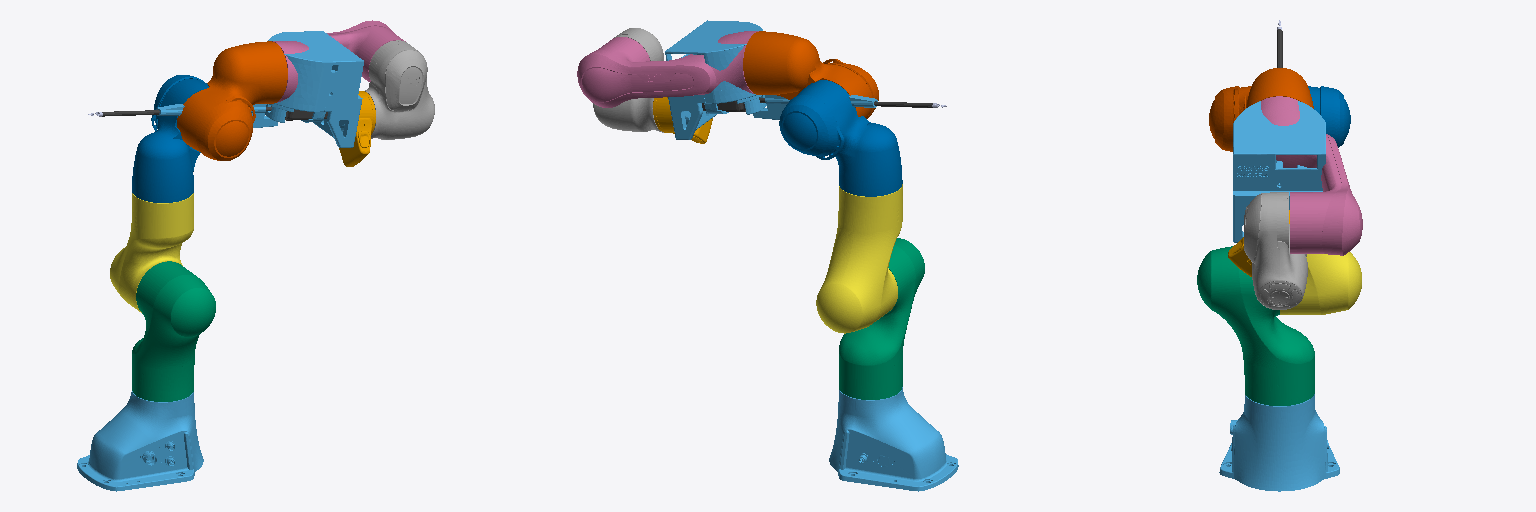
robot.urdf — franka_lnd:
<?xml version="1.0" encoding="utf-8"?>
<!-- ======================================================================= -->
<!-- Copyright 2024 MedCVR Lab                                               -->
<!-- ======================================================================= -->
<!-- This file contains the description of the Franka robot with LND tool.   -->
<!-- Adapted from the publicly available Franka URDF.                        -->
<!-- Franka + LND400006 Tool -->

<!-- ================= -->
<!--       Joints      -->
<!-- ================= -->
<robot name="franka_lnd">

  <joint name="world_base_joint" type="fixed">
    <parent link="world"/>
    <child link="panda_link0"/>
    <origin rpy="0 0 0" xyz="0 0 0"/>
  </joint>

  <joint name="panda_joint1" type="revolute">
    <safety_controller k_position="100.0" k_velocity="40.0" soft_lower_limit="-2.8973" soft_upper_limit="2.8973"/>
    <origin rpy="0 0 0" xyz="0 0 0.333"/>
    <parent link="panda_link0"/>
    <child link="panda_link1"/>
    <axis xyz="0 0 1"/>
    <limit acceleration="15" effort="87" lower="-2.9671" upper="2.9671" velocity="2.5"/>
    <dynamics D="1" K="7000" damping="0.003" friction="0.0" mu_coulomb="0" mu_viscous="16"/>
  </joint>

  <joint name="panda_joint2" type="revolute">
    <safety_controller k_position="100.0" k_velocity="40.0" soft_lower_limit="-1.7628" soft_upper_limit="1.7628"/>
    <origin rpy="-1.5707963267948966 0 0" xyz="0 0 0"/>
    <parent link="panda_link1"/>
    <child link="panda_link2"/>
    <axis xyz="0 0 1"/>
    <limit acceleration="7.5" effort="87" lower="-1.8326" upper="1.8326" velocity="2.5"/>
    <dynamics D="1" K="7000" damping="0.003" friction="0.0" mu_coulomb="0" mu_viscous="16"/>
  </joint>

  <joint name="panda_joint3" type="revolute">
    <safety_controller k_position="100.0" k_velocity="40.0" soft_lower_limit="-2.8973" soft_upper_limit="2.8973"/>
    <origin rpy="1.5707963267948966 0 0" xyz="0 -0.316 0"/>
    <parent link="panda_link2"/>
    <child link="panda_link3"/>
    <axis xyz="0 0 1"/>
    <limit acceleration="12.5" effort="87" lower="-2.9671" upper="2.9671" velocity="2.5"/>
    <dynamics D="1" K="7000" damping="0.003" friction="0.0" mu_coulomb="0" mu_viscous="16"/>
  </joint>

  <joint name="panda_joint4" type="revolute">
    <safety_controller k_position="100.0" k_velocity="40.0" soft_lower_limit="-3.0718" soft_upper_limit="-0.0698"/>
    <origin rpy="1.5707963267948966 0 0" xyz="0.0825 0 0"/>
    <parent link="panda_link3"/>
    <child link="panda_link4"/>
    <axis xyz="0 0 1"/>
    <limit acceleration="12.5" effort="87" lower="-3.1416" upper="-0.4" velocity="2.5"/>
    <dynamics D="1" K="7000" damping="0.003" friction="0.0" mu_coulomb="0" mu_viscous="16"/>
  </joint>

  <joint name="panda_joint5" type="revolute">
    <safety_controller k_position="100.0" k_velocity="40.0" soft_lower_limit="-2.8973" soft_upper_limit="2.8973"/>
    <origin rpy="-1.5707963267948966 0 0" xyz="-0.0825 0.384 0"/>
    <parent link="panda_link4"/>
    <child link="panda_link5"/>
    <axis xyz="0 0 1"/>
    <limit acceleration="15" effort="12" lower="-2.9671" upper="2.9671" velocity="3"/>
    <dynamics D="1" K="7000" damping="0.003" friction="0.0" mu_coulomb="0" mu_viscous="16"/>
  </joint>

  <joint name="panda_joint6" type="revolute">
    <safety_controller k_position="100.0" k_velocity="40.0" soft_lower_limit="-0.0175" soft_upper_limit="3.7525"/>
    <origin rpy="1.5707963267948966 0 0" xyz="0 0 0"/>
    <parent link="panda_link5"/>
    <child link="panda_link6"/>
    <axis xyz="0 0 1"/>
    <limit acceleration="20" effort="12" lower="-0.0873" upper="3.8223" velocity="3"/>
    <dynamics D="1" K="7000" damping="0.003" friction="0.0" mu_coulomb="0" mu_viscous="16"/>
  </joint>

  <joint name="panda_joint7" type="revolute">
    <safety_controller k_position="100.0" k_velocity="40.0" soft_lower_limit="-2.8973" soft_upper_limit="2.8973"/>
    <origin rpy="1.5707963267948966 0 0" xyz="0.088 0 0"/>
    <parent link="panda_link6"/>
    <child link="panda_link7"/>
    <axis xyz="0 0 1"/>
    <limit acceleration="20" effort="12" lower="-2.9671" upper="2.9671" velocity="3"/>
    <dynamics D="1" K="7000" damping="0.003" friction="0.0" mu_coulomb="0" mu_viscous="16"/>
  </joint>

  <joint name="franka_mount_joint" type="fixed">
    <origin rpy="0 0 3.14159" xyz="-0.0188 0 0.1915"/>
    <parent link="panda_link7"/>
    <child link="tool_mount_link"/>
  </joint>

  <joint name="tool_mount_joint" type="fixed">
    <origin rpy="0 0 0" xyz="0 0 0"/>
    <parent link="tool_mount_link"/>
    <child link="main_insertion_link"/>
  </joint>

  <joint name="tool_roll" type="revolute">
    <origin rpy="0 0 0" xyz="0 0 0.4162"/>
    <parent link="main_insertion_link"/>
    <child link="tool_roll_link"/>
    <axis xyz="0 0 1"/>
    <limit effort="1000" lower="-3.14159" upper="3.14159" velocity="10"/>
  </joint>

  <joint name="tool_pitch" type="revolute">
    <origin rpy="1.5708 -1.5708 0" xyz="0 0 0"/>
    <parent link="tool_roll_link"/>
    <child link="tool_pitch_link"/>
    <axis xyz="0 0 1"/>
    <limit effort="1000" lower="-1.5708" upper="1.5708" velocity="10"/>
  </joint>

  <joint name="tool_yaw" type="revolute">
    <origin rpy="-1.5708 1.5708 0" xyz="0.0091 0 0"/>
    <parent link="tool_pitch_link"/>
    <child link="tool_yaw_link"/>
    <axis xyz="0 0 1"/>
    <limit effort="1000" lower="-1.5708" upper="1.5708" velocity="10"/>
  </joint>

  <joint name="tool_gripper1_joint" type="revolute">
    <origin rpy="0 0 0" xyz="0 0 0"/>
    <parent link="tool_yaw_link"/>
    <child link="tool_gripper1_link"/>
    <axis xyz="0 0 1"/>
    <mimic joint="jaw" multiplier="-1" offset="0"/>
    <limit effort="0" lower="-1" upper="0" velocity="0"/>
  </joint>

  <joint name="jaw" type="revolute">
    <origin rpy="0 0 0" xyz="0 0 0"/>
    <parent link="tool_yaw_link"/>
    <child link="tool_gripper2_link"/>
    <axis xyz="0 0 1"/>
    <limit effort="0" lower="0" upper="1" velocity="0"/>
  </joint>

  <joint name="tool_tip_joint" type="fixed">
    <origin rpy="1.5708 1.5708 0" xyz="0 -0.0102 0"/>
    <parent link="tool_yaw_link"/>
    <child link="tool_tip"/>
  </joint>

  <!-- ================= -->
  <!--       Links       -->
  <!-- ================= -->

  <link name="world"/>

  <link name="panda_link0">
    <visual>
      <origin rpy="0 0 0" xyz="0 0 0"/>
      <geometry>
        <mesh filename="package://meshes/dae/link0.obj"/>
      </geometry>
    </visual>
    <inertial>
      <!-- Estimated guesses from CAD -->
      <origin rpy="0 0 0" xyz="-0.041018 -0.00014 0.049974"/>
      <mass value="0.629769"/>
      <inertia ixx="0.00315" ixy="8.2904E-07" ixz="0.00015" iyy="0.00388" iyz="8.2299E-06" izz="0.004285"/>
    </inertial>
  </link>
  <link name="panda_link1">
    <visual>
      <origin rpy="0 0 0" xyz="0 0 0"/>
      <geometry>
        <mesh filename="package://meshes/dae/link1.obj"/>
      </geometry>
    </visual>
    <inertial>
      <origin rpy="0 0 0" xyz="0.003875 0.002081 -0.04762"/>
      <mass value="4.970684"/>
      <inertia ixx="0.70337" ixy="-0.00013900" ixz="0.0067720" iyy="0.70661" iyz="0.019169" izz="0.0091170"/>
    </inertial>
  </link>

  <link name="panda_link2">
    <visual>
      <origin rpy="0 0 0" xyz="0 0 0"/>
      <geometry>
        <mesh filename="package://meshes/dae/link2.obj"/>
      </geometry>
    </visual>
    <inertial>
      <origin rpy="0 0 0" xyz=" -0.003141 -0.02872  0.003495"/>
      <mass value="0.646926"/>
      <inertia ixx="0.0079620" ixy="-3.9250e-3" ixz="1.0254e-02" iyy="2.8110e-02" iyz="7.0400e-04" izz="2.5995e-02"/>
    </inertial>
  </link>

  <link name="panda_link3">
    <visual>
      <origin rpy="0 0 0" xyz="0 0 0"/>
      <geometry>
        <mesh filename="package://meshes/dae/link3.obj"/>
      </geometry>
    </visual>
    <inertial>
      <origin rpy="0 0 0" xyz="2.7518e-02 3.9252e-02 -6.6502e-02"/>
      <mass value="3.228604"/>
      <inertia ixx="3.7242e-02" ixy="-4.7610e-03" ixz="-1.1396e-02" iyy="3.6155e-02" iyz="-1.2805e-02" izz="1.0830e-02"/>
    </inertial>
  </link>

  <link name="panda_link4">
    <visual>
      <origin rpy="0 0 0" xyz="0 0 0"/>
      <geometry>
        <mesh filename="package://meshes/dae/link4.obj"/>
      </geometry>
    </visual>
    <inertial>
      <origin rpy="0 0 0" xyz="-5.317e-02 1.04419e-01 2.7454e-02"/>
      <mass value="3.587895"/>
      <inertia ixx="2.5853e-02" ixy="7.7960e-03" ixz="-1.3320e-03" iyy="1.9552e-02" iyz="8.6410e-03" izz="2.8323e-02"/>
    </inertial>
  </link>

  <link name="panda_link5">
    <visual>
      <origin rpy="0 0 0" xyz="0 0 0"/>
      <geometry>
        <mesh filename="package://meshes/dae/link5.obj"/>
      </geometry>
    </visual>
    <inertial>
      <origin rpy="0 0 0" xyz="-1.1953e-02 4.1065e-02 -3.8437e-02"/>
      <mass value="1.225946"/>
      <inertia ixx="3.5549e-02" ixy="-2.1170e-03" ixz="-4.0370e-03" iyy="2.9474e-02" iyz="2.2900e-04" izz="8.6270e-03"/>
    </inertial>
  </link>

  <link name="panda_link6">
    <visual>
      <origin rpy="0 0 0" xyz="0 0 0"/>
      <geometry>
        <mesh filename="package://meshes/dae/link6.obj"/>
      </geometry>
    </visual>
    <inertial>
      <origin rpy="0 0 0" xyz="6.0149e-02 -1.4117e-02 -1.0517e-02"/>
      <mass value="1.666555"/>
      <inertia ixx="1.9640e-03" ixy="1.0900e-04" ixz="-1.1580e-03" iyy="4.3540e-03" iyz="3.4100e-04" izz="5.4330e-03"/>
    </inertial>
  </link>

  <link name="panda_link7">
    <visual>
      <origin rpy="0 0 0" xyz="0 0 0"/>
      <geometry>
        <mesh filename="package://meshes/dae/link7.obj"/>
      </geometry>
    </visual>
    <inertial>
      <origin rpy="0 0 0" xyz="1.0517e-02 -4.252e-03 6.1597e-02"/>
      <mass value="7.35522e-01"/>
      <inertia ixx="1.2516e-02" ixy="-4.2800e-04" ixz="-1.1960e-03" iyy="1.0027e-02" iyz="-7.4100e-04" izz="4.8150e-03"/>
    </inertial>
  </link>

  <link name="tool_mount_link">
    <visual>
      <origin rpy="0 0 0" xyz="0 0 0"/>
      <geometry>
        <mesh filename="package://meshes/obj/franka_tool_mount.obj"/>
      </geometry>
    </visual>
  </link>

  <link name="main_insertion_link">
    <inertial>
      <origin rpy="0 0 0" xyz="0.0040563 -0.00010934 0.0098616"/>
      <mass value="0.22491"/>
      <inertia ixx="0.01" ixy="-0.00001" ixz="0.00001" iyy="0.001" iyz="0.00001" izz="0.001"/>
    </inertial>
    <visual>
      <origin rpy="0 0 0" xyz="0 0 0"/>
      <geometry>
        <mesh filename="package://meshes/obj/tool_main_insertion_link.obj"/>
      </geometry>
      <material name="">
        <color rgba="0.3 0.3 0.3 1.0"/>
      </material>
    </visual>
    <collision name="main_insertion_link_collision_0">
      <origin rpy="0 0 0" xyz="0 0 0"/>
      <geometry>
        <mesh filename="package://meshes/obj/tool_main_insertion_link_collision_0.test.obj"/>
      </geometry>
    </collision>
    <collision name="main_insertion_link_collision_1">
      <origin rpy="0 0 0" xyz="0 0 0"/>
      <geometry>
        <mesh filename="package://meshes/obj/tool_main_insertion_link_collision_1.test.obj"/>
      </geometry>
    </collision>
  </link>

  <link name="tool_roll_link">
    <inertial>
      <origin rpy="0 0 0" xyz="0 0 -0.0058234"/>
      <mass value="0.00033225"/>
      <inertia ixx="0.001" ixy="0.00001" ixz="0.00001" iyy="0.001" iyz="0.00001" izz="0.001"/>
    </inertial>
    <visual>
      <origin rpy="0 0 0" xyz="0 0 0"/>
      <geometry>
        <mesh filename="package://meshes/obj/lnd_roll_link.obj"/>
      </geometry>
      <material name="">
        <color rgba="0.79608 0.82353 0.93725 1"/>
      </material>
    </visual>
    <collision name="tool_roll_link_collision_0">
      <origin rpy="0 0 0" xyz="0 0 0"/>
      <geometry>
        <mesh filename="package://meshes/obj/lnd_roll_link_collision_0.test.obj"/>
      </geometry>
    </collision>
    <collision name="tool_roll_link_collision_1">
      <origin rpy="0 0 0" xyz="0 0 0"/>
      <geometry>
        <mesh filename="package://meshes/obj/lnd_roll_link_collision_1.test.obj"/>
      </geometry>
    </collision>
    <collision name="tool_roll_link_collision_2">
      <origin rpy="0 0 0" xyz="0 0 0"/>
      <geometry>
        <mesh filename="package://meshes/obj/lnd_roll_link_collision_2.test.obj"/>
      </geometry>
    </collision>
  </link>


  <link name="tool_pitch_link">
    <inertial>
      <origin rpy="0 0 0" xyz="0.0035763 0 0"/>
      <mass value="0.00025784"/>
      <inertia ixx="0.001" ixy="0.00001" ixz="0.00001" iyy="0.001" iyz="0.00001" izz="0.001"/>
    </inertial>
    <visual>
      <origin rpy="0 0 0" xyz="0 0 0"/>
      <geometry>
        <mesh filename="package://meshes/obj/lnd_pitch_link.obj"/>
      </geometry>
      <material name="">
        <color rgba="0.79608 0.82353 0.93725 1"/>
      </material>
    </visual>
    <collision name="tool_pitch_link_collision_0">
      <origin rpy="0 0 0" xyz="0 0 0"/>
      <geometry>
        <mesh filename="package://meshes/obj/lnd_pitch_link_collision_0.test.obj"/>
      </geometry>
    </collision>
    <collision name="tool_pitch_link_collision_1">
      <origin rpy="0 0 0" xyz="0 0 0"/>
      <geometry>
        <mesh filename="package://meshes/obj/lnd_pitch_link_collision_1.test.obj"/>
      </geometry>
    </collision>
    <collision name="tool_pitch_link_collision_2">
      <origin rpy="0 0 0" xyz="0 0 0"/>
      <geometry>
        <mesh filename="package://meshes/obj/lnd_pitch_link_collision_2.test.obj"/>
      </geometry>
    </collision>
  </link>

  <link name="tool_yaw_link">
    <inertial>
      <origin rpy="0 0 0" xyz="0 0 0"/>
      <mass value="0.012491"/>
      <inertia ixx="0.001" ixy="0.00001" ixz="0.00001" iyy="0.001" iyz="0.00001" izz="0.001"/>
    </inertial>
    <visual>
      <origin rpy="0 0 0" xyz="0 0 0"/>
      <geometry>
        <mesh filename="package://meshes/obj/lnd_yaw_link.obj"/>
      </geometry>
      <material name="">
        <color rgba="0.79608 0.82353 0.93725 1"/>
      </material>
    </visual>
  </link>

  <link name="tool_gripper1_link">
    <inertial>
      <origin rpy="0 0 0" xyz="0.00019605 0.001435 -0.00088478"/>
      <mass value="0.010491"/>
      <inertia ixx="0.001" ixy="0.00001" ixz="0.00001" iyy="0.001" iyz="0.00001" izz="0.001"/>
    </inertial>
    <visual>
      <origin rpy="0 0 0" xyz="0 0 0"/>
      <geometry>
        <mesh filename="package://meshes/obj/lnd_gripper_link.obj"/>
      </geometry>
      <material name="">
        <color rgba="0.79608 0.82353 0.93725 1"/>
      </material>
    </visual>
    <collision name="tool_gripper1_link_collision_0">
      <origin rpy="0 0 0" xyz="0 0 0"/>
      <geometry>
        <mesh filename="package://meshes/obj/lnd_gripper_link_collision_0.test.obj"/>
      </geometry>
    </collision>
    <collision name="tool_gripper1_link_collision_1">
      <origin rpy="0 0 0" xyz="0 0 0"/>
      <geometry>
        <mesh filename="package://meshes/obj/lnd_gripper_link_collision_1.test.obj"/>
      </geometry>
    </collision>
  </link>

  <link name="tool_gripper2_link">
    <inertial>
      <origin rpy="0 0 0" xyz="-0.00019605 0.001435 0.00088478"/>
      <mass value="0.010491"/>
      <inertia ixx="0.001" ixy="0.00001" ixz="0.00001" iyy="0.001" iyz="0.00001" izz="0.001"/>
    </inertial>
    <visual>
      <origin rpy="0 3.1416 0" xyz="0 0 0"/>
      <geometry>
        <mesh filename="package://meshes/obj/lnd_gripper_link.obj"/>
      </geometry>
      <material name="">
        <color rgba="0.79608 0.82353 0.93725 1"/>
      </material>
    </visual>
    <collision name="tool_gripper2_link_collision_0">
      <origin rpy="0 3.1416 0" xyz="0 0 0"/>
      <geometry>
        <mesh filename="package://meshes/obj/lnd_gripper_link_collision_0.test.obj"/>
      </geometry>
    </collision>
    <collision name="tool_gripper2_link_collision_1">
      <origin rpy="0 3.1416 0" xyz="0 0 0"/>
      <geometry>
        <mesh filename="package://meshes/obj/lnd_gripper_link_collision_1.test.obj"/>
      </geometry>
    </collision>
  </link>

  <link name="tool_tip"/>

  <disable_collision link1="main_insertion_link" link2="tool_roll_link"/>
  <disable_collision link1="tool_roll_link" link2="tool_pitch_link"/>
  <disable_collision link1="tool_pitch_link" link2="tool_gripper1_link"/>
  <disable_collision link1="tool_pitch_link" link2="tool_gripper2_link"/>
  <disable_collision link1="tool_gripper1_link" link2="tool_gripper2_link"/>

</robot>

--- Facts derived from the render (not from the file) ---
Views: 3 orthographic renders of the robot side by side, from view 1: azimuth 30°, elevation 25°; view 2: azimuth 150°, elevation 25°; view 3: azimuth 270°, elevation 25°.
Model franka_lnd with 17 links and 16 joints (12 revolute, 4 fixed), rooted at world, posed joints at zero except 1 at the middle of their limits (panda_joint4 = -1.77).
Links seen in each view (by area): view 1: panda_link0, panda_link1, panda_link4, tool_mount_link, panda_link3, panda_link6, panda_link2, panda_link5, panda_link7, main_insertion_link; view 2: panda_link0, panda_link2, panda_link3, panda_link5, panda_link1, panda_link4, tool_mount_link, panda_link6, panda_link7, main_insertion_link; view 3: panda_link1, panda_link0, tool_mount_link, panda_link5, panda_link6, panda_link4, panda_link2, panda_link3.
Boxes of the visible links, x1,y1,x2,y2 form: panda_link0: [77, 391, 203, 491]; panda_link1: [132, 261, 215, 401]; panda_link4: [177, 41, 287, 160]; tool_mount_link: [156, 31, 363, 147]; panda_link3: [132, 75, 208, 202]; panda_link6: [365, 40, 434, 139]; panda_link2: [110, 193, 193, 312]; panda_link5: [272, 20, 405, 102]; panda_link7: [339, 91, 375, 166]; main_insertion_link: [102, 106, 327, 120]; panda_link0: [829, 387, 958, 491]; panda_link2: [816, 184, 902, 333]; panda_link3: [779, 80, 902, 196]; panda_link5: [577, 31, 758, 107]; panda_link1: [839, 238, 924, 399]; panda_link4: [743, 31, 878, 118]; tool_mount_link: [665, 20, 877, 139]; panda_link6: [593, 28, 663, 132]; panda_link7: [653, 97, 712, 143]; main_insertion_link: [702, 98, 932, 111]; panda_link1: [1197, 246, 1314, 405]; panda_link0: [1219, 394, 1339, 491]; tool_mount_link: [1233, 101, 1325, 242]; panda_link5: [1261, 96, 1362, 255]; panda_link6: [1244, 192, 1307, 309]; panda_link4: [1209, 68, 1313, 151]; panda_link2: [1280, 252, 1361, 314]; panda_link3: [1308, 86, 1350, 147].
Size in the robot's own frame: 0.6973 by 0.2593 by 0.7667 metres.
14 mesh visuals loaded from 14 distinct referenced files (13 OBJ); not drawn: 1 (reference not matched to a file when rendering).